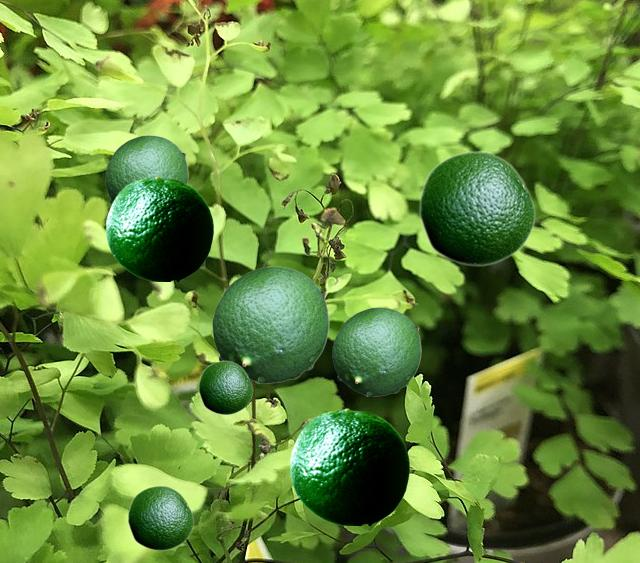calamansi: (290, 408, 408, 524), (418, 150, 535, 266), (212, 266, 328, 382), (106, 176, 212, 280), (332, 307, 420, 395), (105, 135, 187, 203), (127, 485, 193, 550), (198, 360, 252, 414)
